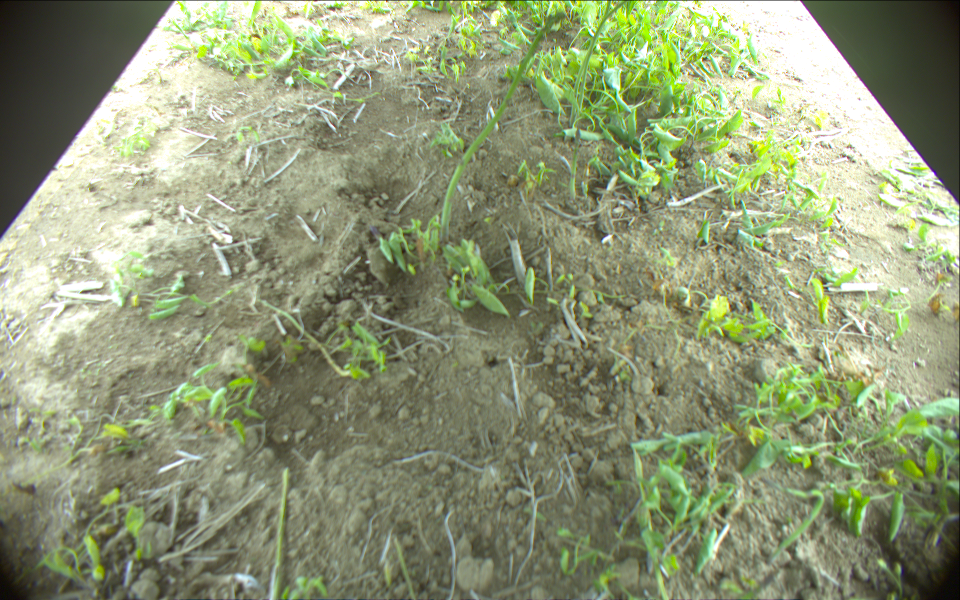aspa: (438, 12, 565, 245), (570, 1, 629, 124), (578, 1, 611, 111), (268, 466, 291, 600), (567, 130, 581, 198)
